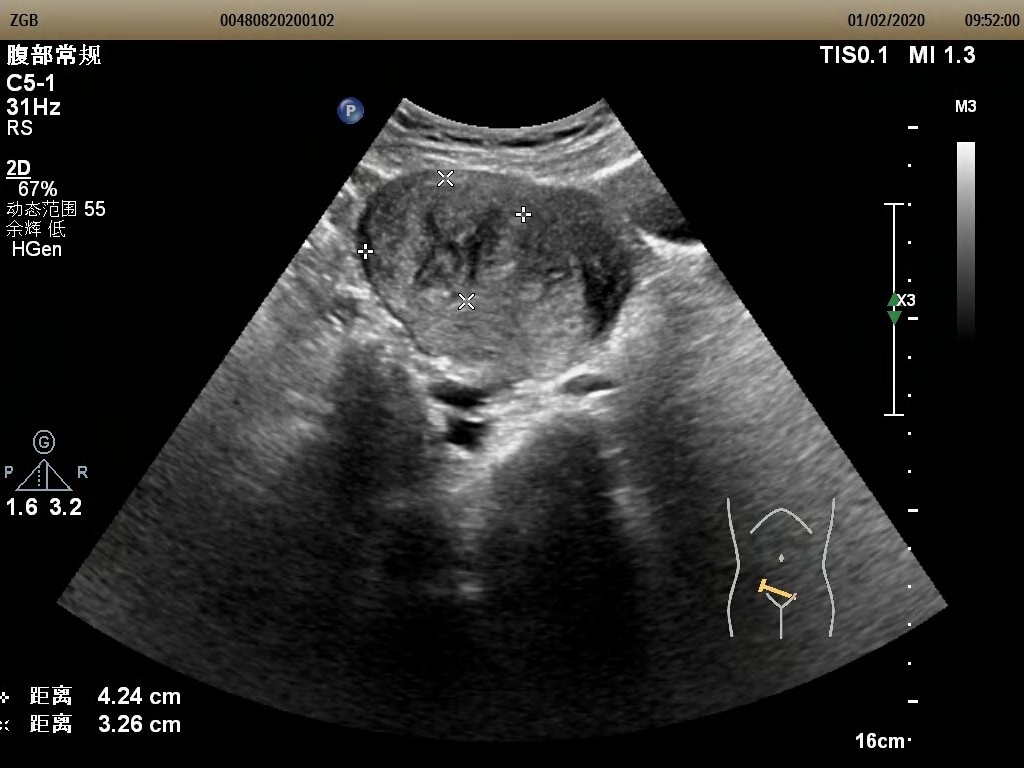肌瘤: (368, 178, 510, 294)
